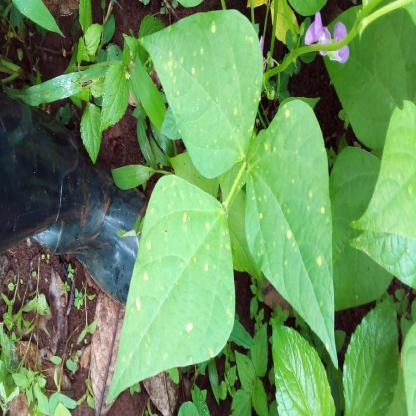Beans_Rust: (107, 177, 232, 400), (244, 102, 337, 366), (139, 10, 262, 175)
